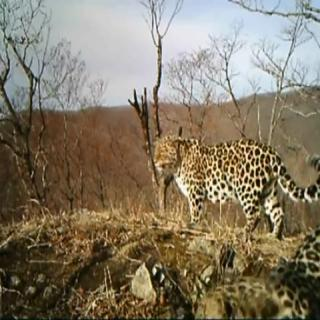Leopard: (125, 96, 320, 258)
